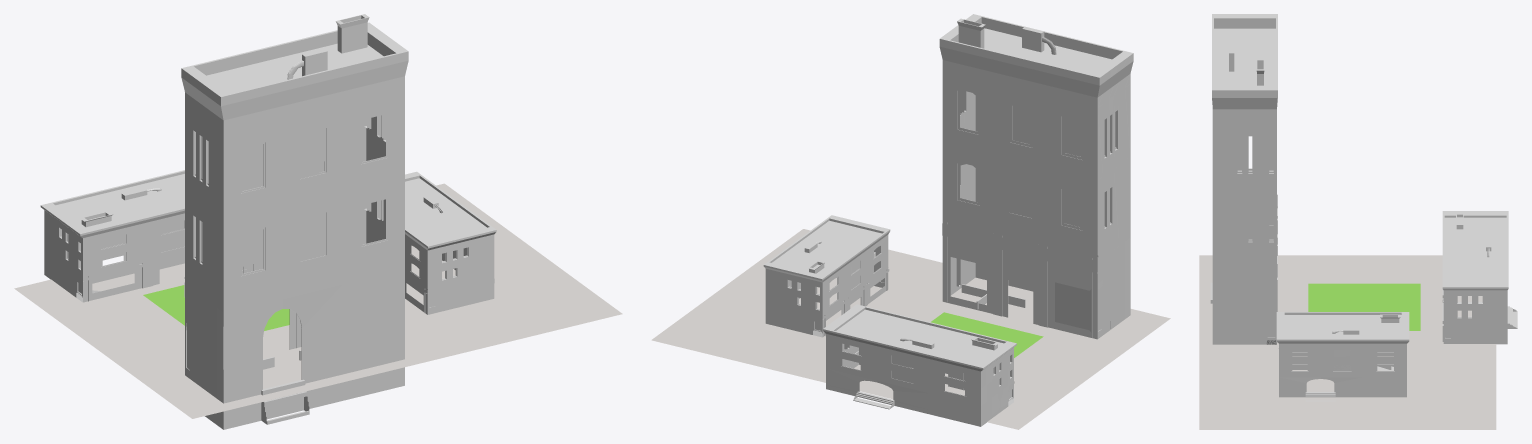
The model's file is building.fbx.
3 renders of one model, left to right at view 1: azimuth 30°, elevation 25°; view 2: azimuth 150°, elevation 25°; view 3: azimuth 270°, elevation 25°, orthographic. The views are drawn at different scales.
Visible parts, largest first — view 1: Cube.001, Plane, Cube.002, Cube, Plane.001; view 2: Cube.001, Plane, Cube.002, Cube, Plane.001; view 3: Plane, Cube.001, Cube, Cube.002, Plane.001.
Boxes of the visible parts, box(x1,y1,x2,y2) form: Cube.001: box(181, 14, 408, 429); Plane: box(14, 183, 622, 418); Cube.002: box(40, 170, 184, 302); Cube: box(405, 171, 496, 314); Plane.001: box(143, 285, 289, 330); Cube.001: box(939, 14, 1133, 339); Plane: box(651, 229, 1170, 429); Cube.002: box(823, 304, 1016, 426); Cube: box(763, 215, 890, 337); Plane.001: box(931, 312, 1043, 357); Plane: box(1199, 255, 1496, 429); Cube.001: box(1210, 14, 1277, 344); Cube: box(1276, 312, 1409, 401); Cube.002: box(1442, 211, 1517, 344); Plane.001: box(1308, 283, 1420, 330).
Size of the model in its own units: 8512 by 6641 by 6551.
